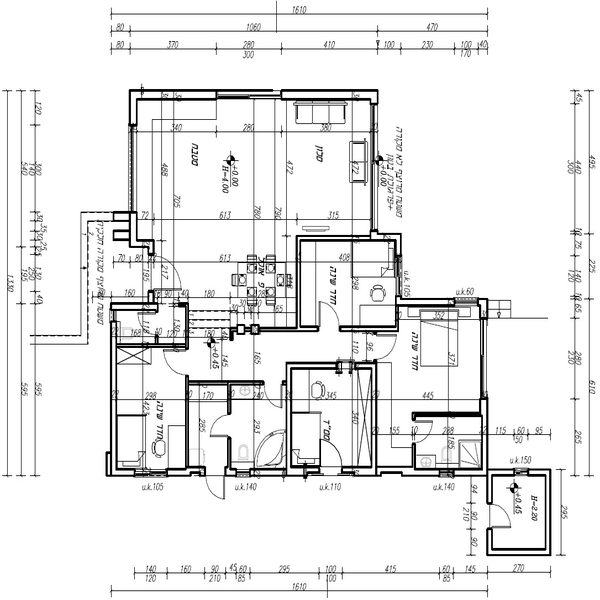door: (147, 255, 185, 294), (315, 438, 347, 476), (370, 333, 401, 364), (263, 379, 287, 417), (162, 347, 191, 377), (408, 417, 439, 444), (316, 298, 341, 331), (203, 470, 230, 500), (487, 507, 515, 532), (207, 415, 235, 440)
room: (128, 88, 381, 243), (397, 295, 490, 478), (294, 234, 400, 335), (284, 362, 377, 477), (184, 380, 293, 477), (488, 471, 551, 556)
wall: (280, 89, 376, 101), (110, 321, 117, 472), (128, 90, 214, 100), (371, 364, 378, 474), (287, 361, 292, 475), (285, 361, 337, 371), (170, 470, 186, 477), (359, 363, 373, 369)
window: (127, 125, 139, 208), (217, 89, 280, 100), (479, 320, 487, 393), (453, 297, 478, 308), (137, 469, 166, 478)
